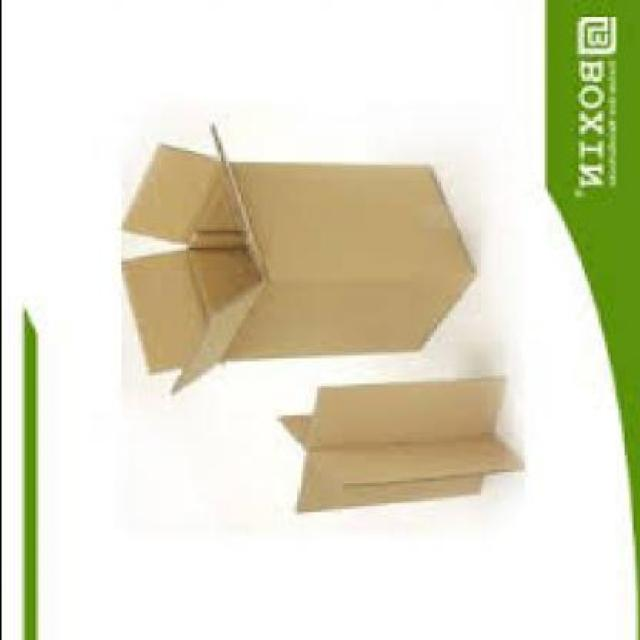CARDBOARD: (117, 122, 475, 390), (273, 376, 521, 510)
